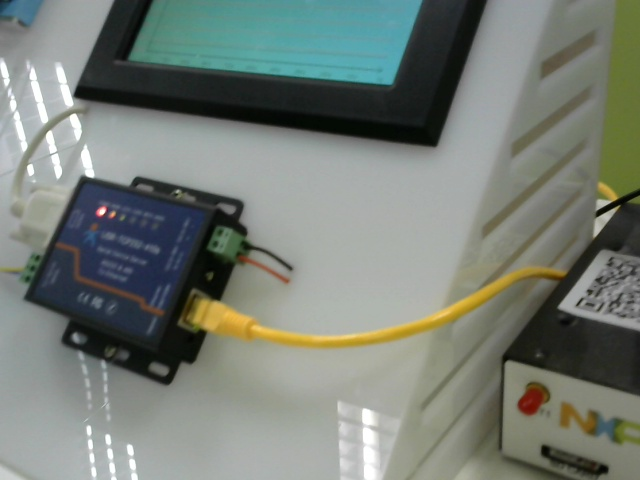modbus bridge: (43, 182, 233, 371)
